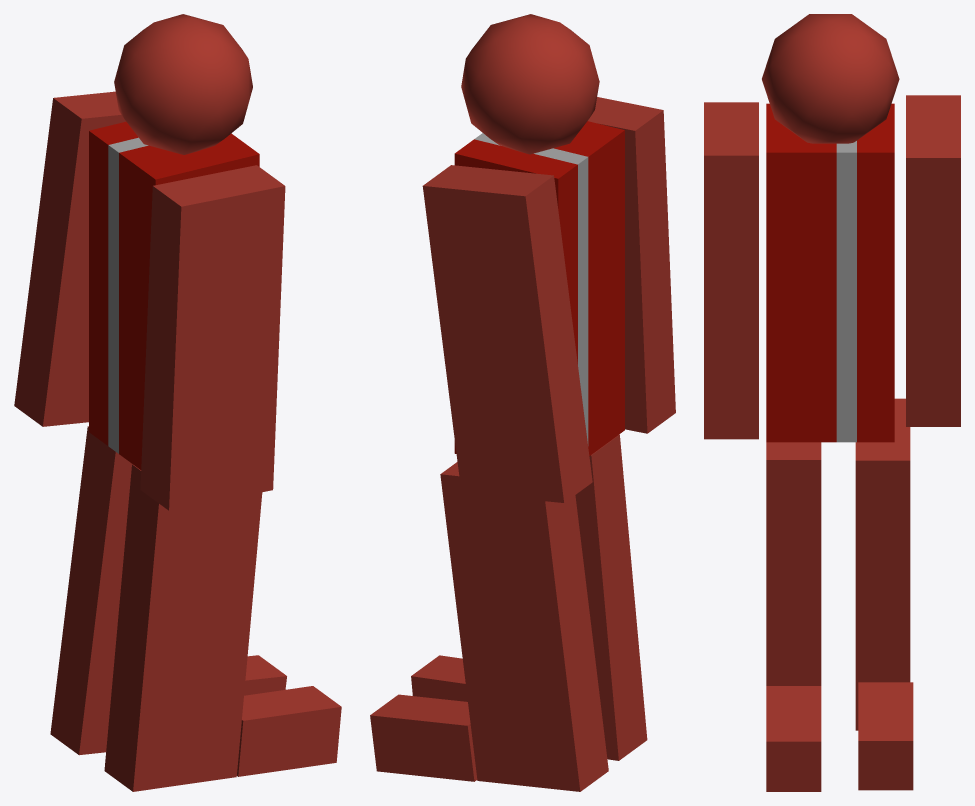
Rendered from player_000094.obj.
3 renders of one model, left to right at view 1: azimuth 30°, elevation 25°; view 2: azimuth 150°, elevation 25°; view 3: azimuth 270°, elevation 25°, orthographic. The views are drawn at different scales.
Visible parts, largest first — view 1: Cube.013, Cube.010, Cube.007, Cube.012, Cube.008, Icosphere.001, Cube.011, Cube.009; view 2: Cube.012, Cube.008, Cube.007, Cube.013, Icosphere.001, Cube.010, Cube.009, Cube.011; view 3: Cube.007, Cube.013, Cube.012, Cube.008, Icosphere.001, Cube.010, Cube.009, Cube.011.
Boxes of the visible parts, <box> form: Cube.013: <box>140,165,285,510</box>; Cube.010: <box>104,464,262,791</box>; Cube.007: <box>89,121,259,469</box>; Cube.012: <box>14,91,125,426</box>; Cube.008: <box>50,426,132,755</box>; Icosphere.001: <box>114,14,252,154</box>; Cube.011: <box>237,686,341,776</box>; Cube.009: <box>244,655,286,695</box>; Cube.012: <box>422,165,592,502</box>; Cube.008: <box>440,462,608,791</box>; Cube.007: <box>454,121,624,455</box>; Cube.013: <box>588,97,675,433</box>; Icosphere.001: <box>461,14,599,154</box>; Cube.010: <box>575,434,647,760</box>; Cube.009: <box>370,694,477,781</box>; Cube.011: <box>411,655,467,701</box>; Cube.007: <box>766,103,894,442</box>; Cube.013: <box>704,102,758,439</box>; Cube.012: <box>906,95,960,426</box>; Cube.008: <box>855,398,910,730</box>; Icosphere.001: <box>762,14,899,143</box>; Cube.010: <box>766,442,821,685</box>; Cube.009: <box>858,682,913,790</box>; Cube.011: <box>766,686,821,791</box>.
Size of the model in its own units: 0.8947 by 2.83 by 0.9137.
